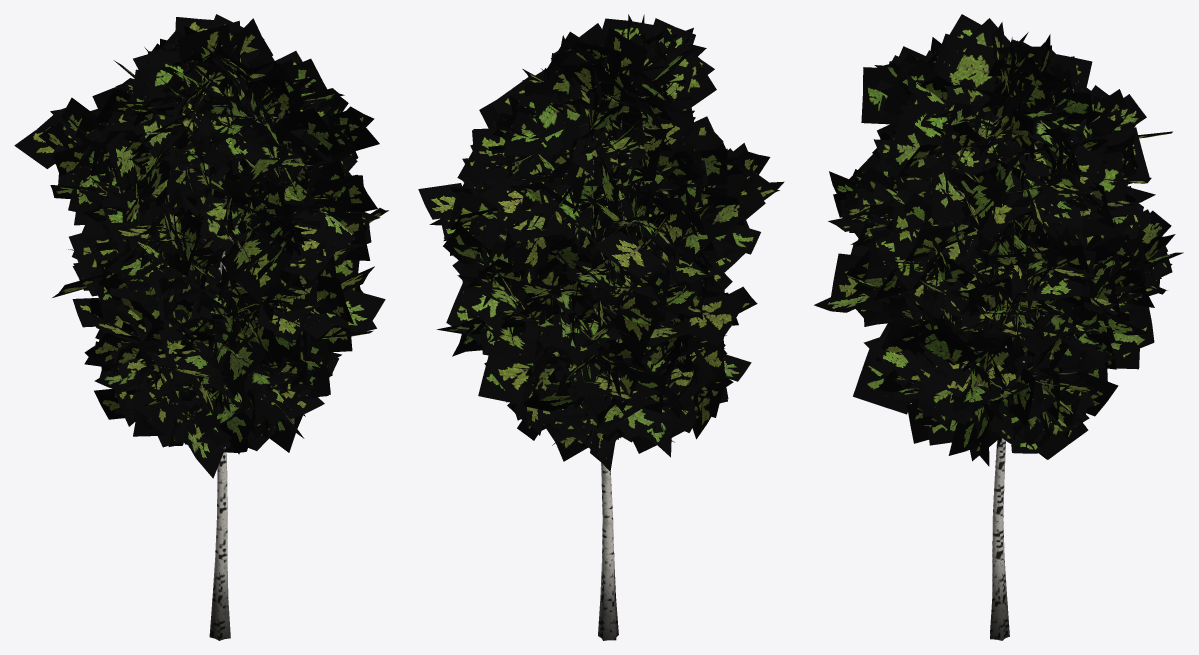
The model's file is briza_stredni.glb.
3 views of the same model, side by side, from view 1: azimuth 30°, elevation 25°; view 2: azimuth 150°, elevation 25°; view 3: azimuth 270°, elevation 25° (orthographic).
Parts seen in each view (by area): view 1: briza_stredni; view 2: briza_stredni; view 3: briza_stredni.
Boxes of the visible parts, x1,y1,x2,y2 form: briza_stredni: (14, 14, 388, 640); briza_stredni: (418, 14, 784, 640); briza_stredni: (814, 14, 1183, 640).
Bounding box in the file's own units: 8.33 × 16.11 × 8.99.
Materials: 2 (2 with a texture image).
